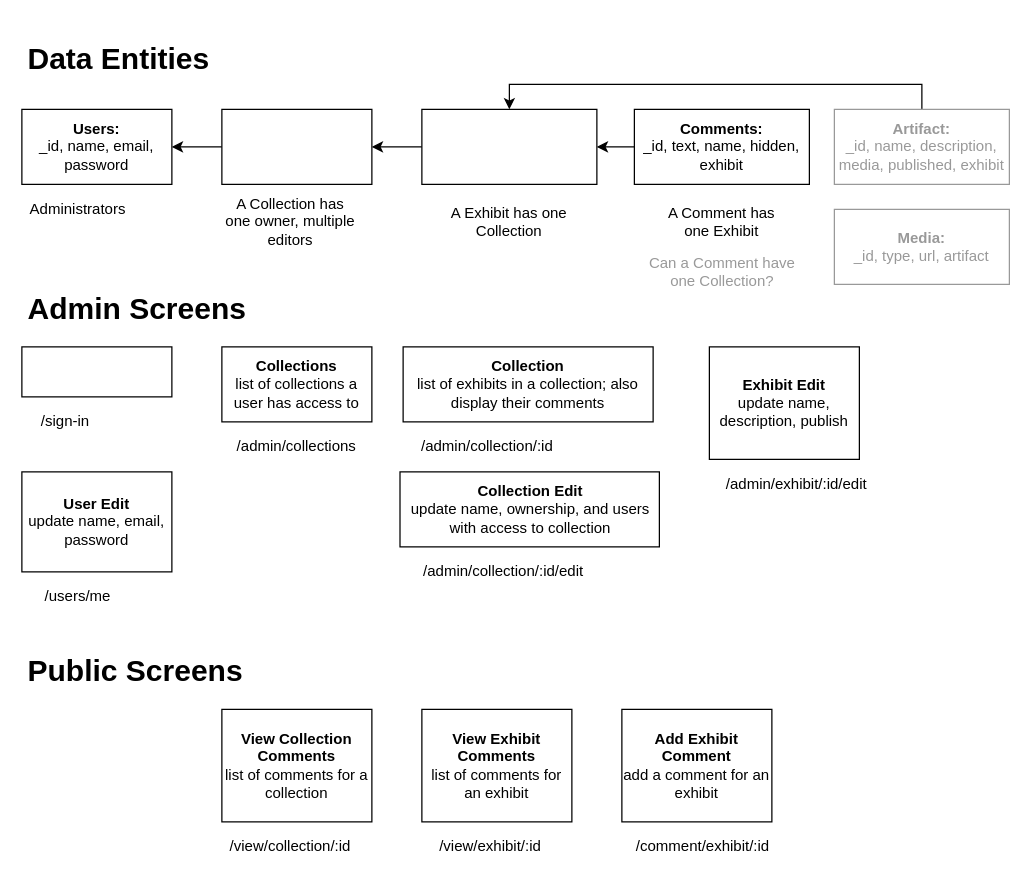
This 1031x880 diagram has some shape labels left out. Here are the shapes that lost their labels. From the top down, the centre of each, then its label:
At (x=296, y=146): "Collections: _id, name, owner editors[]".
At (x=509, y=146): "Exhibits: _id, name, description, published, collection".
At (x=96, y=371): "User SignIn, Create".
